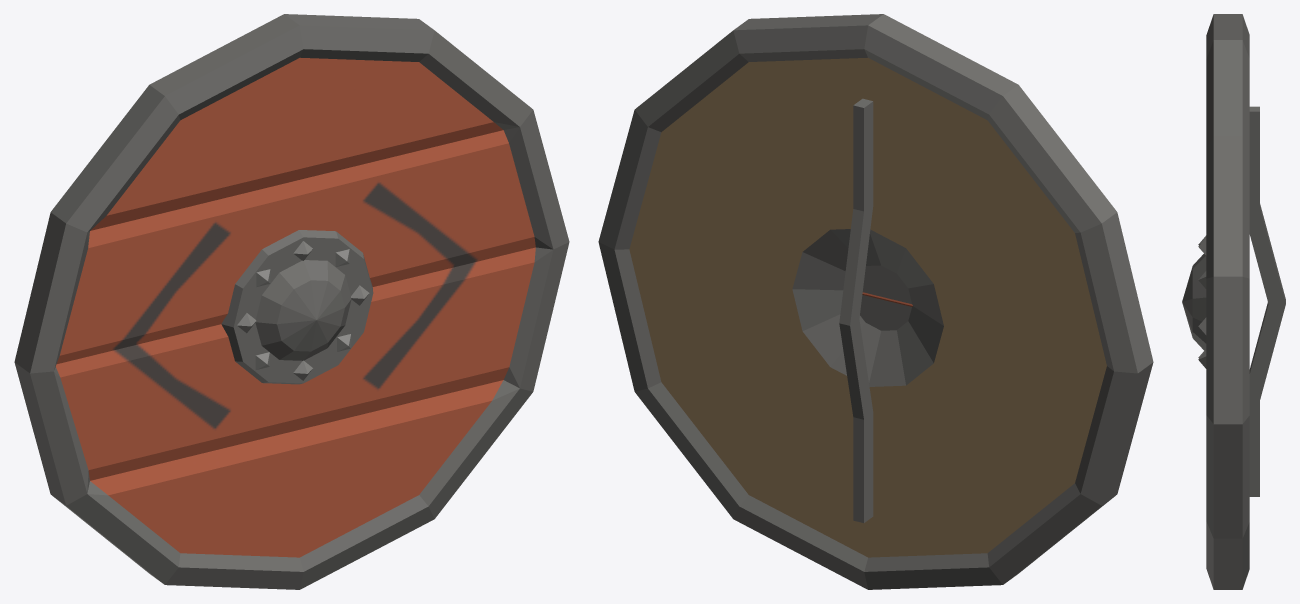
The model's file is SM_pwe_slavic_shield_03f.fbx.
3 views of the same model, side by side, from view 1: azimuth 30°, elevation 25°; view 2: azimuth 150°, elevation 25°; view 3: azimuth 270°, elevation 25° (orthographic). The views are drawn at different scales.
Visible parts, largest first — view 1: SM_pwe_slavic_shield_03f; view 2: SM_pwe_slavic_shield_03f; view 3: SM_pwe_slavic_shield_03f.
Boxes of the visible parts, left/top/right/bottom form: SM_pwe_slavic_shield_03f: left=14, top=14, right=569, bottom=589; SM_pwe_slavic_shield_03f: left=598, top=14, right=1153, bottom=589; SM_pwe_slavic_shield_03f: left=1182, top=14, right=1285, bottom=589.
Size of the model in its own units: 70.52 by 70.52 by 12.67.
